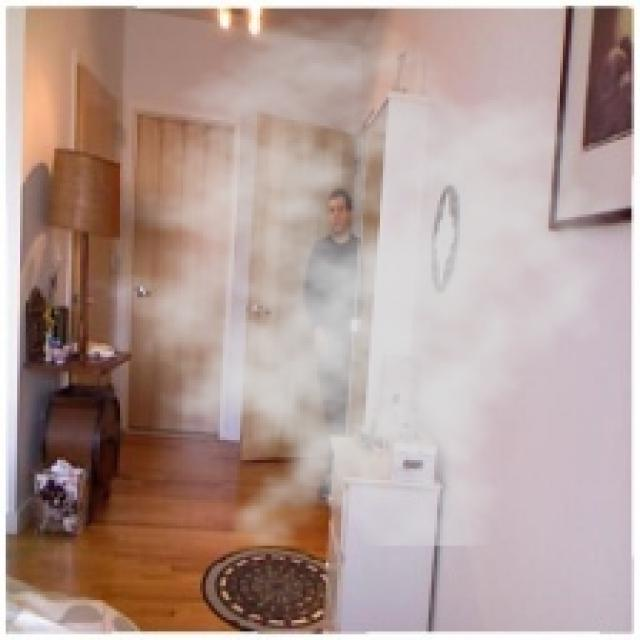Smoke: (80, 14, 629, 546)
